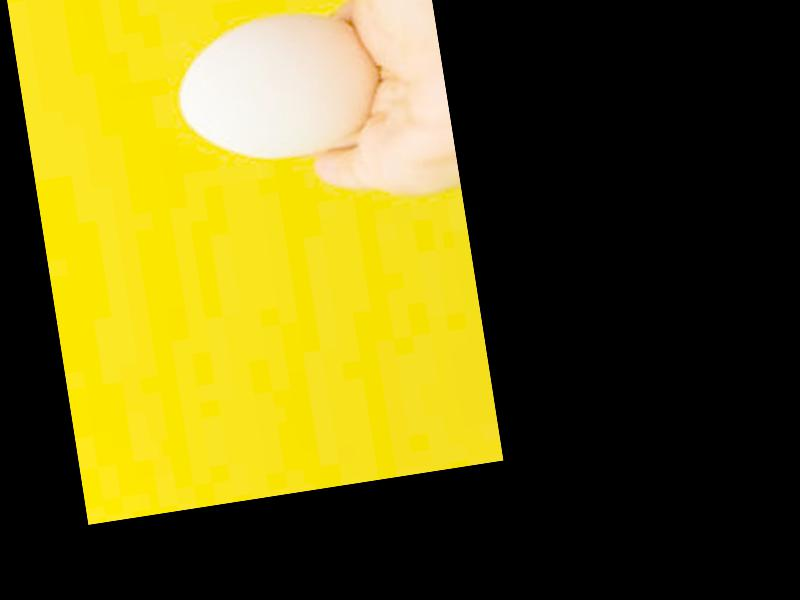Eggs: (168, 8, 386, 171)
